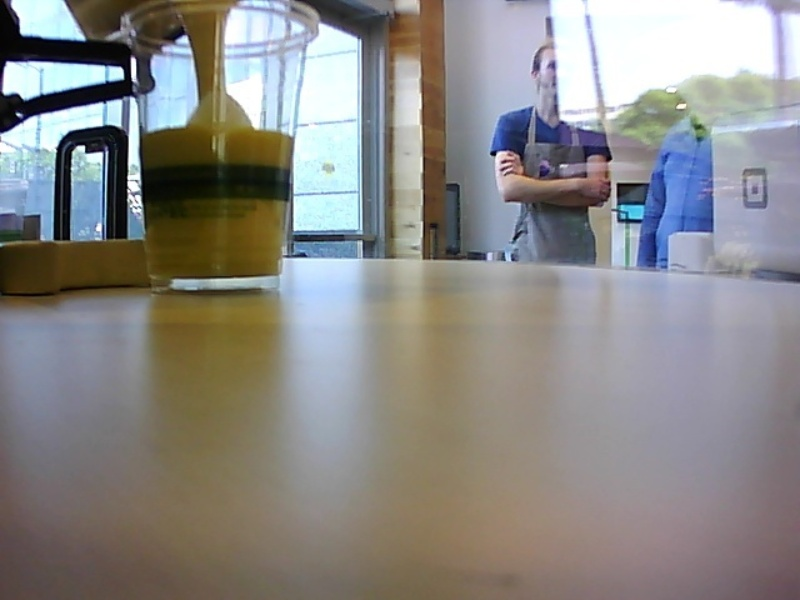cup: (118, 4, 325, 296)
limit: (141, 119, 297, 146)
